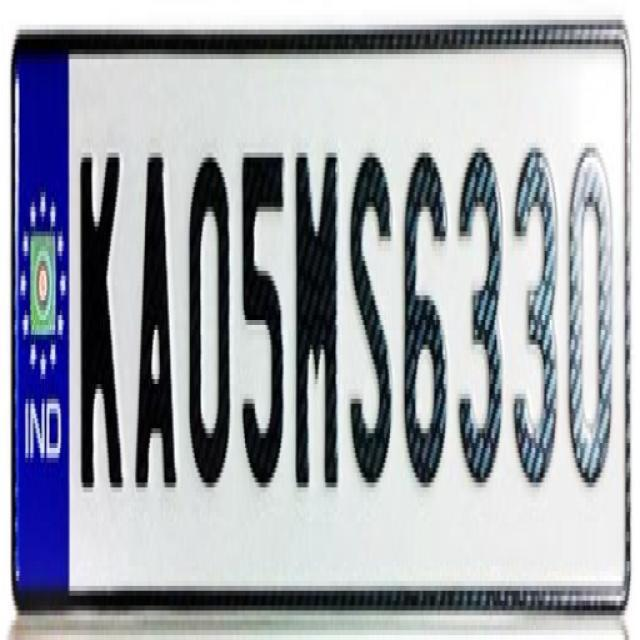0: (563, 108, 617, 498), (184, 129, 236, 519)
3: (454, 108, 506, 498), (511, 102, 560, 511)
5: (237, 131, 288, 541)
6: (399, 131, 452, 531)
A: (132, 121, 182, 531)
K: (77, 125, 130, 525)
M: (294, 131, 346, 519)
S: (348, 133, 396, 515)
